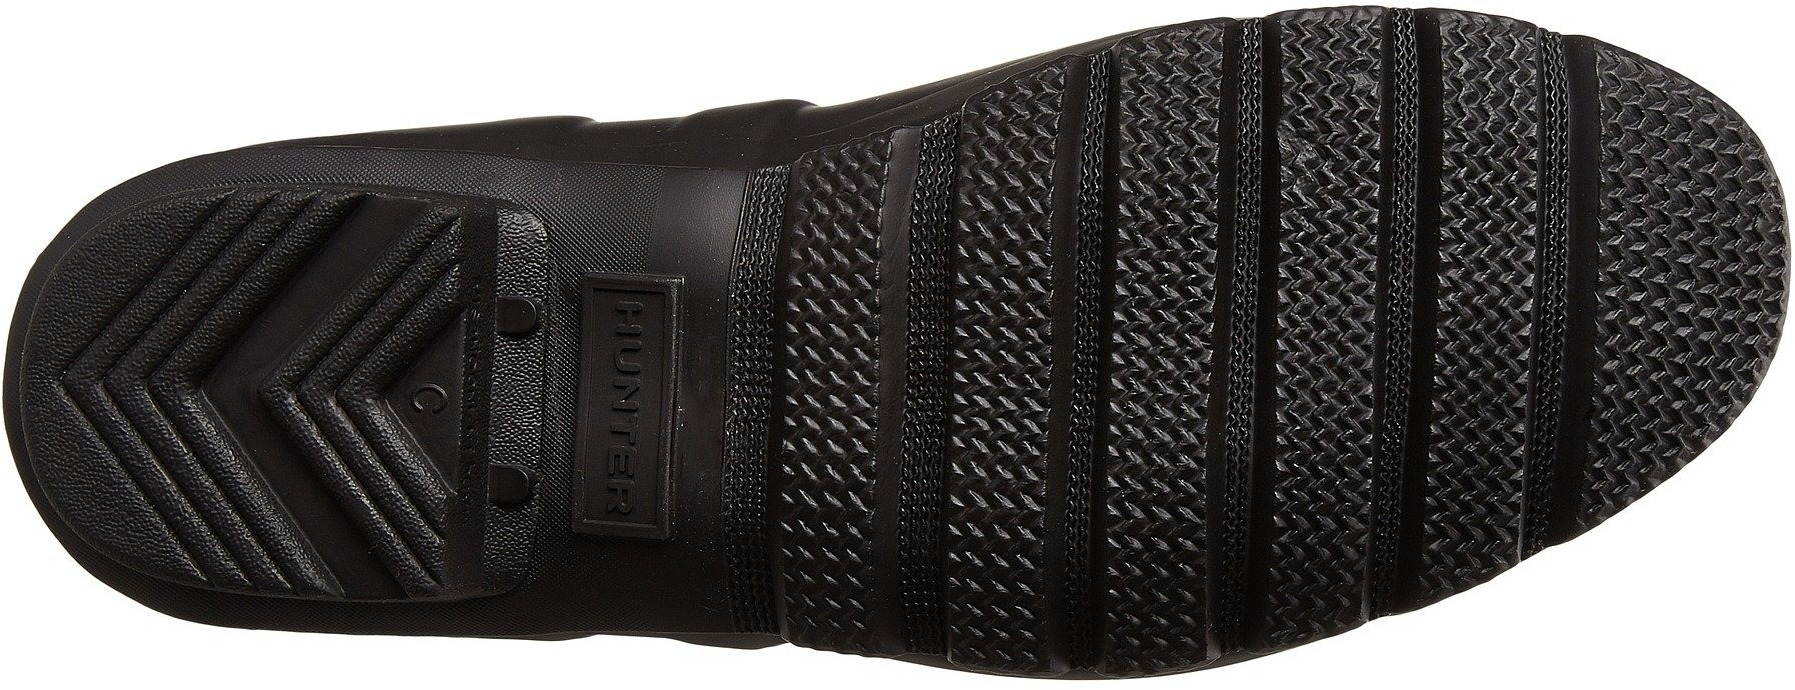chevron: (793, 172, 1065, 495), (1082, 331, 1370, 597), (1334, 46, 1612, 290), (1076, 70, 1314, 325), (559, 257, 762, 545), (247, 214, 456, 445), (1390, 307, 1611, 515), (50, 273, 235, 444), (98, 436, 172, 509)
exclude: (540, 628, 799, 689)
line: (793, 172, 1065, 495), (1082, 331, 1370, 597), (1334, 46, 1612, 290), (1076, 70, 1314, 325), (559, 257, 762, 545), (1390, 307, 1611, 515)
quad: (559, 257, 762, 545)
text: (559, 257, 762, 545), (582, 386, 674, 479), (598, 293, 679, 375), (410, 371, 467, 429)
